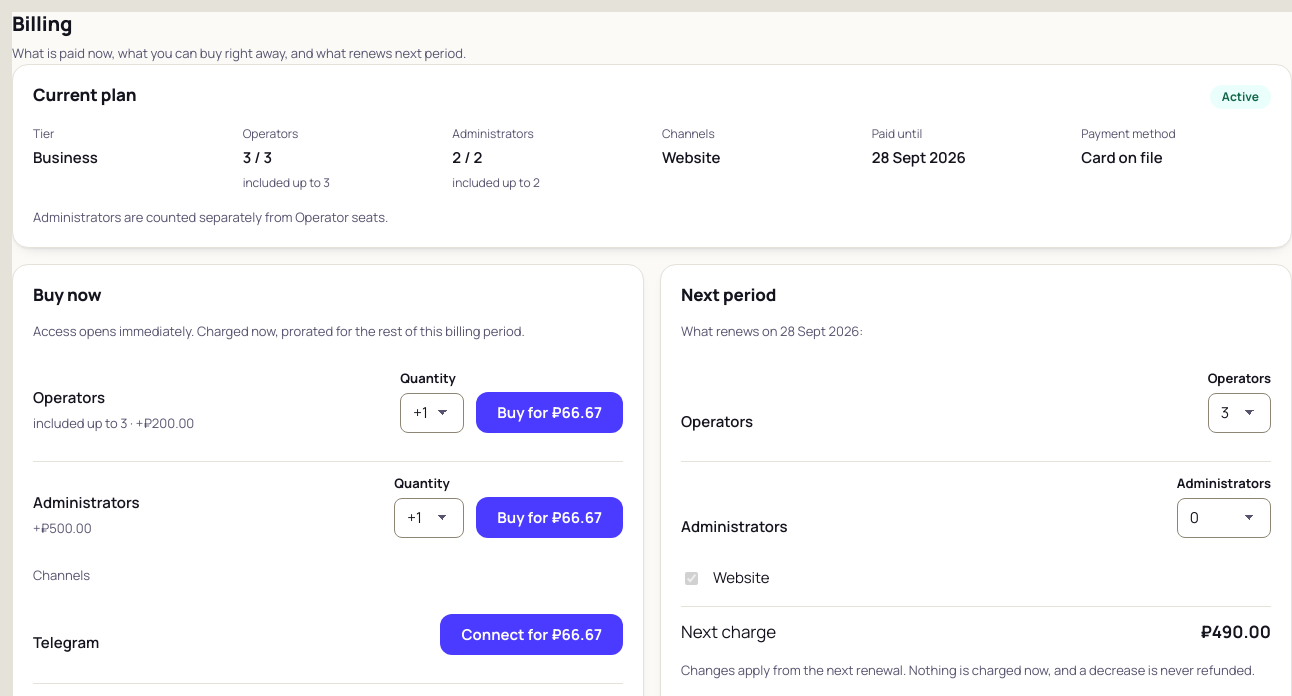
Test: Card B - next period, editing an active subscription's own composition › persists a new seat count immediately, with no charge, and refreshes status
The width and height of the screenshot is (1292, 696).
Select "4" in the dropdown labelled "Operators" at (1239, 413), box [1208,393,1271,433]
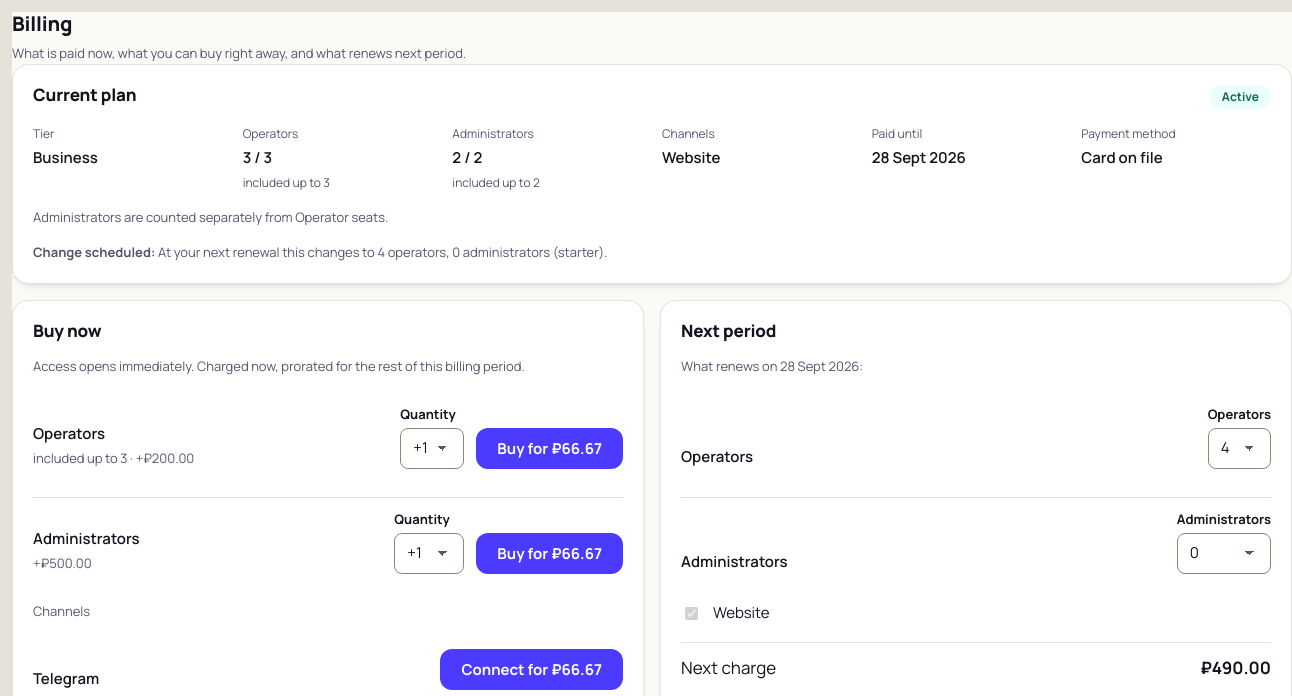
Expected: the text "Change scheduled" is shown, [33,243,151,261]
